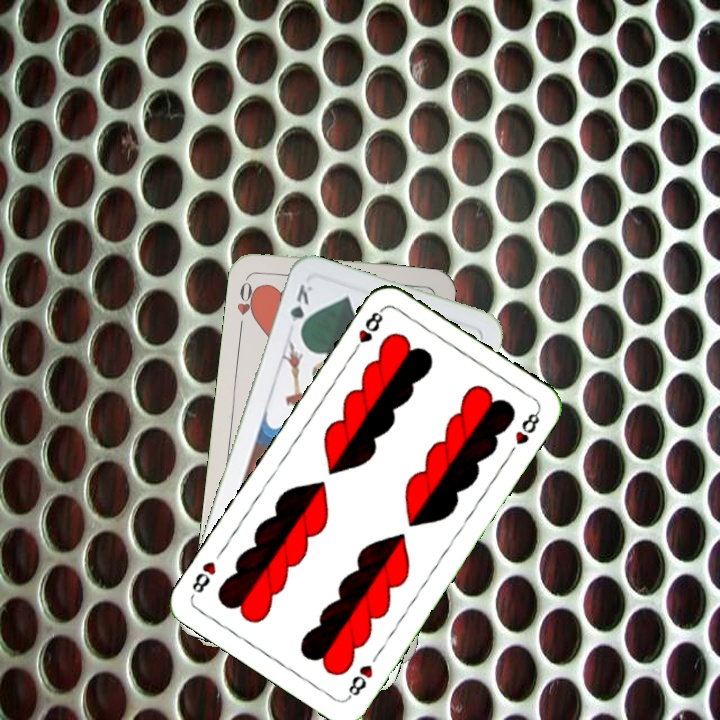GK: (285, 280, 316, 338)
H8: (348, 304, 386, 357), (343, 660, 376, 702)
HO: (232, 273, 261, 332)
